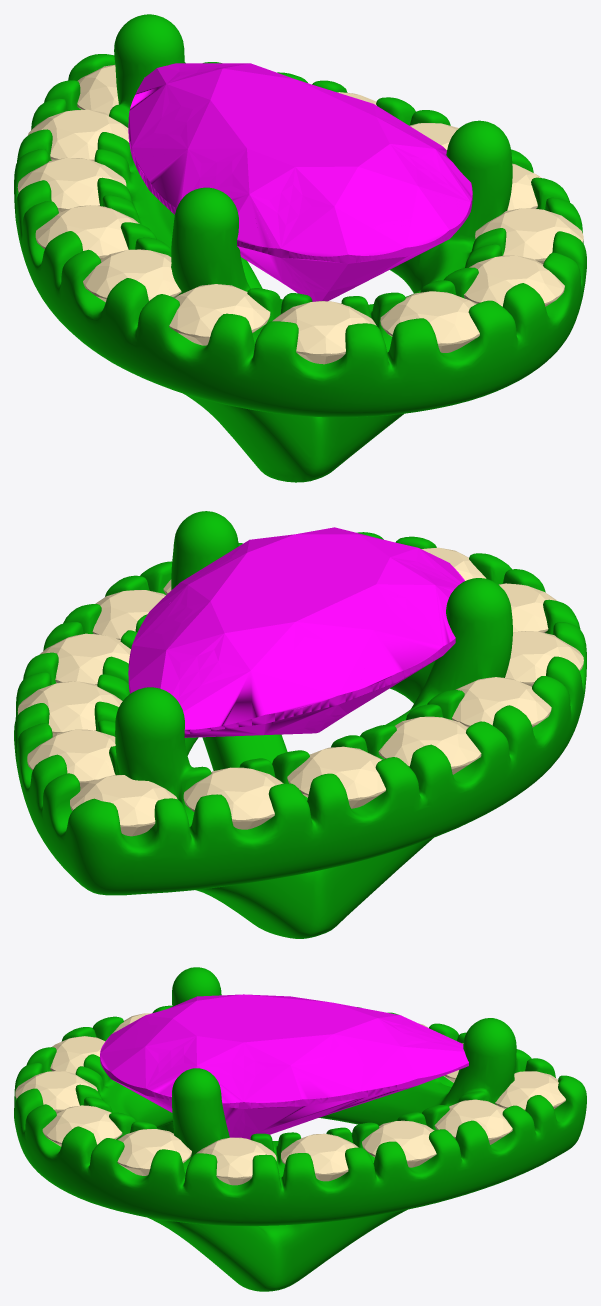
3 views of the same model, one above another, from view 1: azimuth 30°, elevation 25°; view 2: azimuth 150°, elevation 25°; view 3: azimuth 270°, elevation 25° (orthographic). The views are drawn at different scales.
Parts seen in each view (by area): view 1: Matel01, Diamond_Pear, Diamond_Round.004, Diamond_Round.005, Diamond_Round.006, Diamond_Round.007, Diamond_Round.003, Diamond_Round.008, Diamond_Round.002, Diamond_Round.001, Diamond_Round, Diamond_Round.013 (+2 smaller); view 2: Matel01, Diamond_Pear, Diamond_Round, Diamond_Round.001, Diamond_Round.002, Diamond_Round.013, Diamond_Round.003, Diamond_Round.012, Diamond_Round.011, Diamond_Round.010, Diamond_Round.004, Diamond_Round.009 (+2 smaller); view 3: Matel01, Diamond_Pear, Diamond_Round.009, Diamond_Round.011, Diamond_Round.008, Diamond_Round.010, Diamond_Round.012, Diamond_Round.007, Diamond_Round.006, Diamond_Round.013, Diamond_Round.005.
Part boxes in pixels (bbox=[...]): Matel01: bbox=[14, 14, 586, 482]; Diamond_Pear: bbox=[128, 63, 472, 301]; Diamond_Round.004: bbox=[169, 284, 270, 345]; Diamond_Round.005: bbox=[272, 301, 376, 364]; Diamond_Round.006: bbox=[380, 291, 479, 352]; Diamond_Round.007: bbox=[464, 255, 564, 306]; Diamond_Round.003: bbox=[83, 249, 181, 302]; Diamond_Round.008: bbox=[475, 208, 583, 263]; Diamond_Round.002: bbox=[35, 205, 139, 259]; Diamond_Round.001: bbox=[17, 157, 126, 212]; Diamond_Round: bbox=[28, 109, 129, 161]; Diamond_Round.013: bbox=[77, 65, 118, 114]; Matel01: bbox=[14, 511, 586, 938]; Diamond_Pear: bbox=[128, 527, 464, 737]; Diamond_Round: bbox=[183, 767, 283, 829]; Diamond_Round.001: bbox=[287, 746, 385, 808]; Diamond_Round.002: bbox=[378, 716, 481, 774]; Diamond_Round.013: bbox=[70, 775, 177, 836]; Diamond_Round.003: bbox=[452, 677, 551, 727]; Diamond_Round.012: bbox=[27, 729, 115, 787]; Diamond_Round.011: bbox=[17, 681, 122, 735]; Diamond_Round.010: bbox=[40, 633, 130, 685]; Diamond_Round.004: bbox=[505, 631, 583, 686]; Diamond_Round.009: bbox=[92, 590, 165, 640]; Matel01: bbox=[14, 967, 586, 1291]; Diamond_Pear: bbox=[100, 994, 468, 1139]; Diamond_Round.009: bbox=[196, 1137, 276, 1185]; Diamond_Round.011: bbox=[362, 1120, 436, 1167]; Diamond_Round.008: bbox=[117, 1129, 191, 1175]; Diamond_Round.010: bbox=[281, 1133, 358, 1181]; Diamond_Round.012: bbox=[434, 1099, 512, 1144]; Diamond_Round.007: bbox=[42, 1105, 122, 1146]; Diamond_Round.006: bbox=[15, 1071, 97, 1113]; Diamond_Round.013: bbox=[495, 1071, 565, 1110]; Diamond_Round.005: bbox=[50, 1036, 105, 1073].
Bounding box in the file's own units: 7.59 × 5.49 × 10.75.
